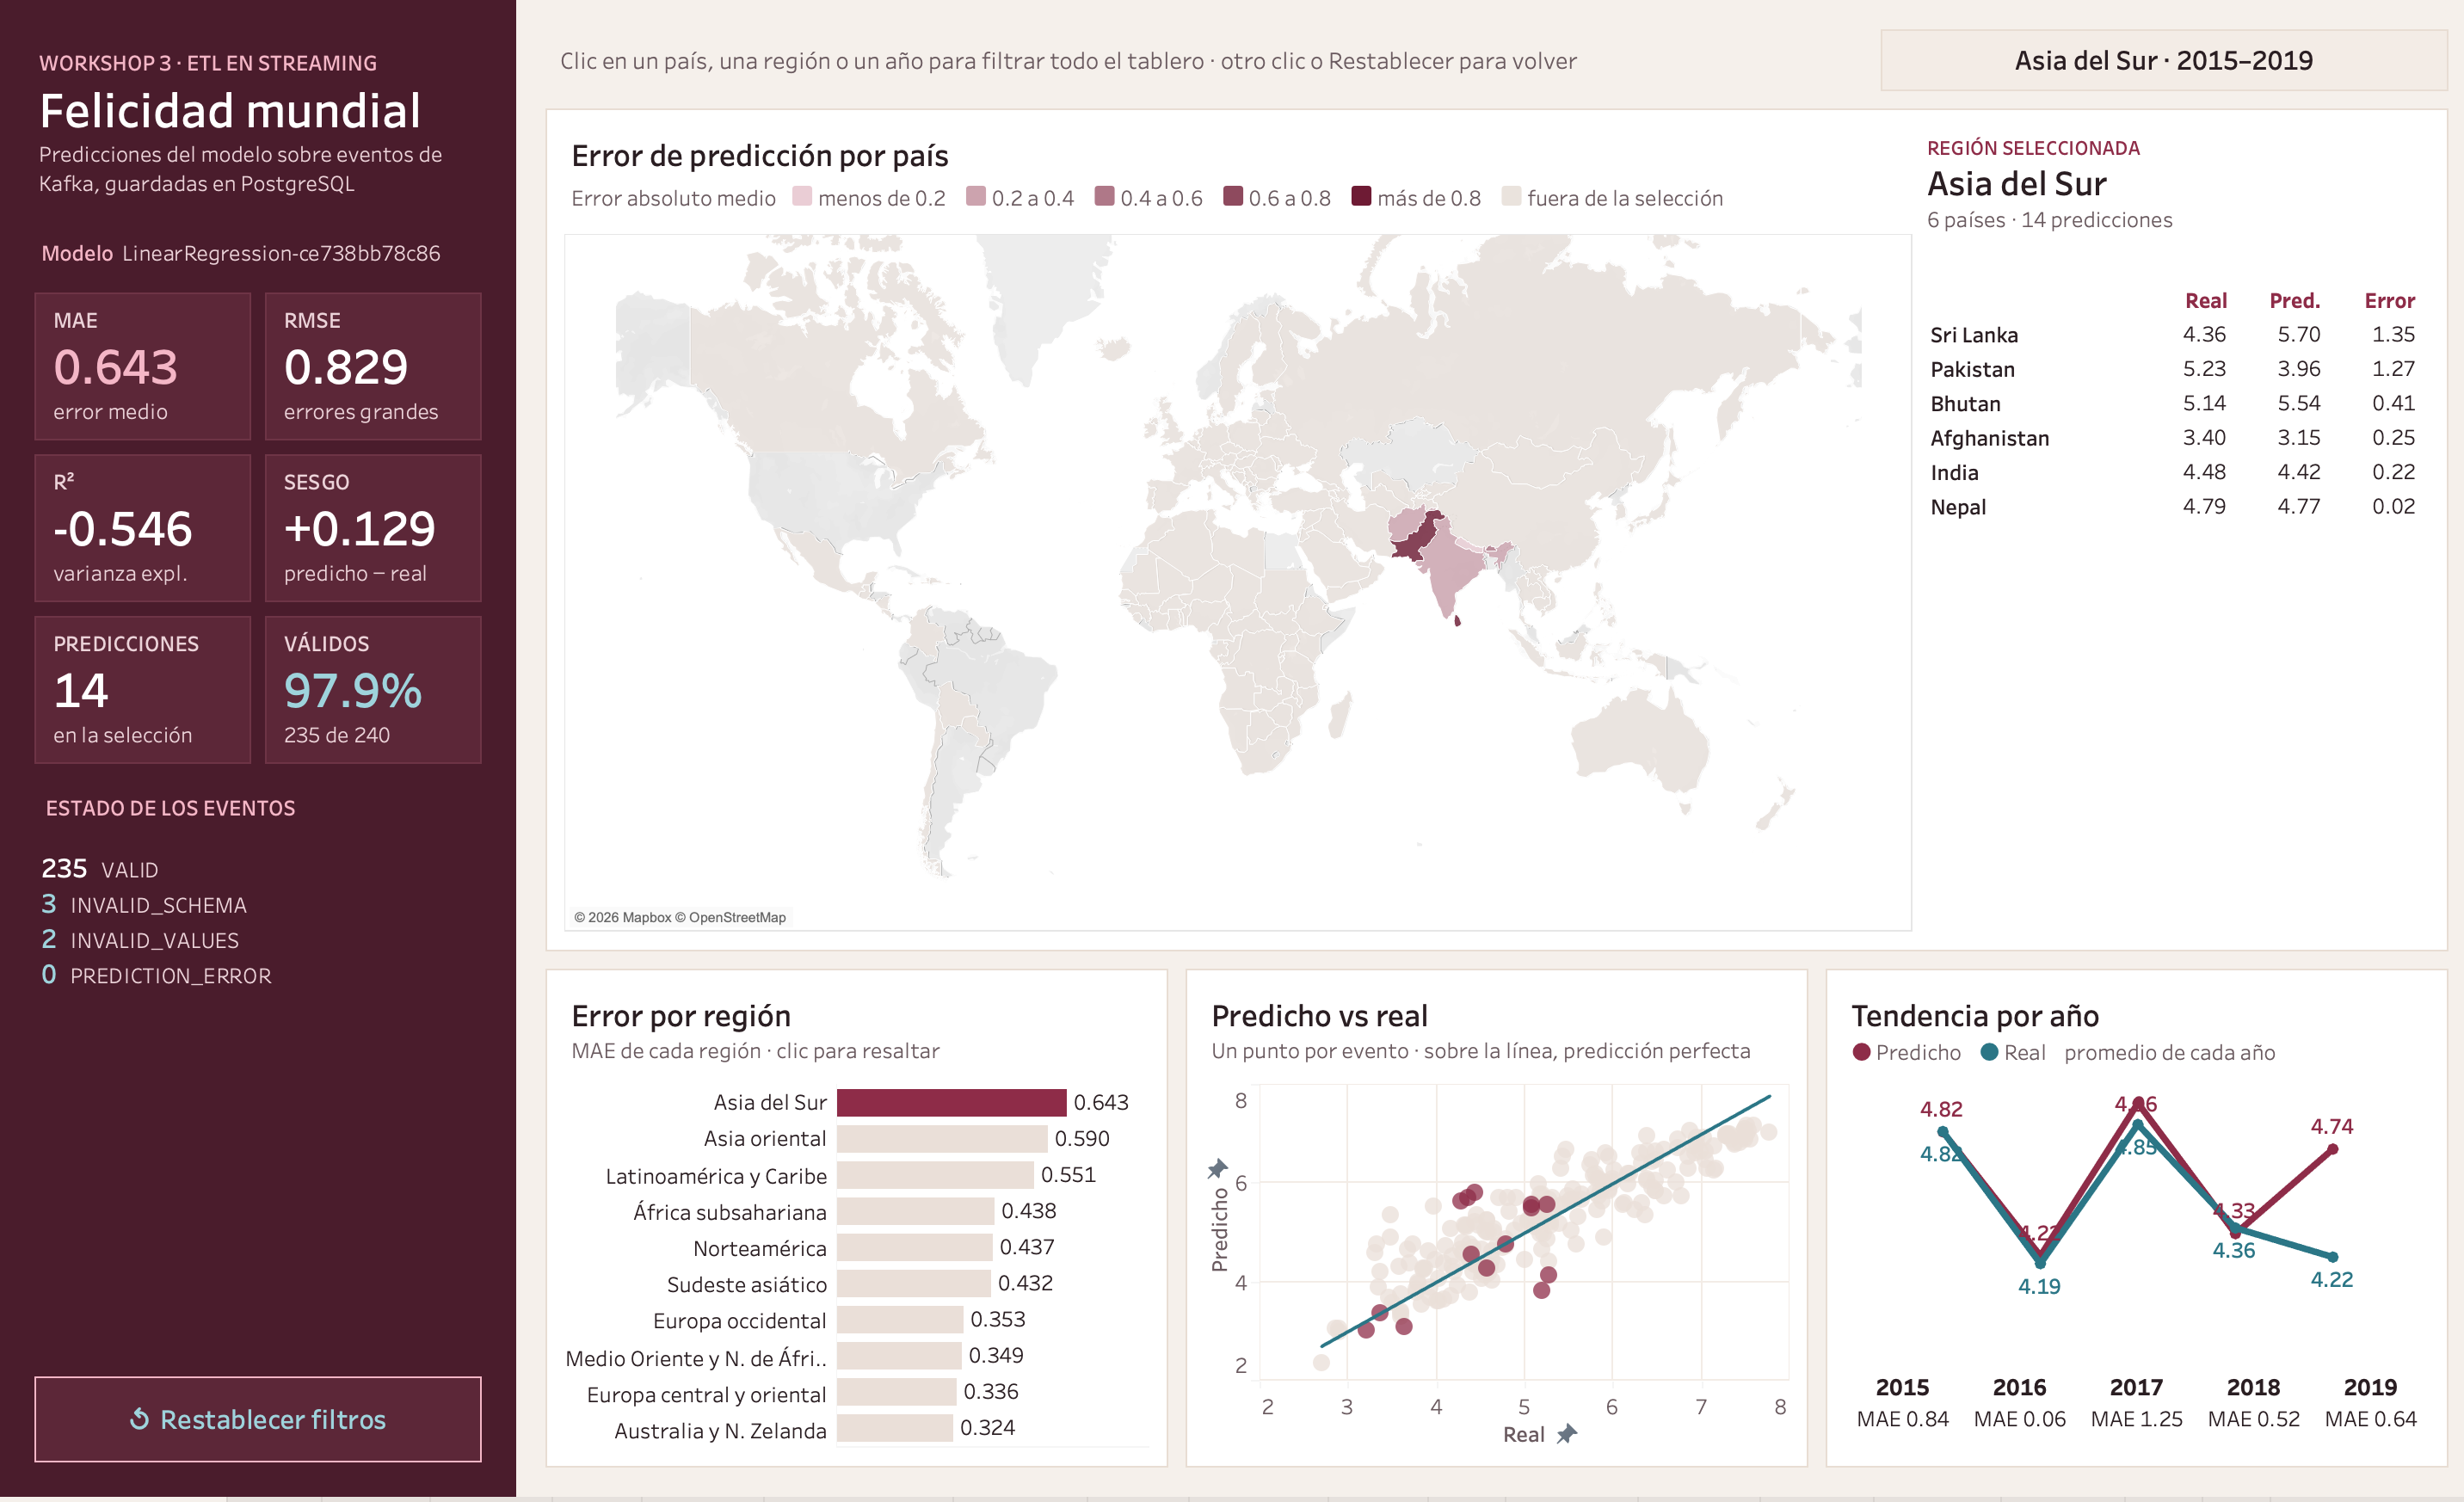

Layout of this report page (visuals, bound fields, positions):
{"tool":"tableau","page":{"name":"Felicidad mundial","canvas":[1000,1000],"units":"permille","ordinal":0},"visuals":[{"type":"text","box":[216.7,13.8,538.9,52.9]},{"type":"worksheet","title":"Alcance","mark":"Text","box":[755.6,13.8,236.1,52.9]},{"type":"text","box":[11.1,18.4,186.1,128.7]},{"type":"worksheet","title":"Mapa","mark":"Multipolygon","box":[227.8,85,544.5,537.9]},{"type":"worksheet","title":"Ficha titulo","mark":"Text","box":[775,89.7,202.8,98.9]},{"type":"worksheet","title":"Modelo","mark":"Text","box":[11.1,147.1,186.1,43.7]},{"type":"worksheet","title":"Ficha lista","mark":"Text","rows":["Calculation_5300000000000023"],"box":[775,188.5,202.8,429.9]},{"type":"worksheet","title":"KPI MAE","mark":"Text","box":[11.1,190.8,93.1,108]},{"type":"worksheet","title":"KPI RMSE","mark":"Text","box":[104.2,190.8,93,108]},{"type":"worksheet","title":"KPI R2","mark":"Text","box":[11.1,298.9,93.1,108]},{"type":"worksheet","title":"KPI Sesgo","mark":"Text","box":[104.2,298.9,93,108]},{"type":"worksheet","title":"KPI Predicciones","mark":"Text","box":[11.1,406.9,93.1,108]},{"type":"worksheet","title":"KPI Validos","mark":"Text","box":[104.2,406.9,93,108]},{"type":"text","box":[11.1,515,186.1,48.3]},{"type":"worksheet","title":"Estados","mark":"Text","box":[11.1,563.2,186.1,119.5]},{"type":"worksheet","title":"Regiones","mark":"Bar","rows":["Calculation_5300000000000001"],"cols":["Calculation_5300000000000035"],"box":[216.7,641.4,258.3,344.8]},{"type":"worksheet","title":"Dispersion","mark":"Automatic","rows":["predicted_score","Calculation_5300000000000046"],"cols":["actual_score"],"box":[475,641.4,258.3,344.8]},{"type":"worksheet","title":"Tendencia","mark":"Automatic","rows":["Calculation_5300000000000062","Calculation_5300000000000061"],"cols":["year"],"box":[744.4,659.8,236.1,255.2]},{"type":"blank","box":[11.1,682.8,186.1,232.2]},{"type":"worksheet","title":"Restablecer","mark":"Text","box":[11.1,914.9,186.1,66.7]},{"type":"worksheet","title":"Anios","mark":"Text","cols":["Calculation_5300000000000003"],"box":[744.4,915,236.1,52.9]}]}

Visuals, with their boxes on the dashboard's canvas, which has no fixed pixel size, in thousandths of its width and height (x1, y1, x2, y2). These are canvas units, not pixel positions in the 2464x1502 screenshot, which may show the page scaled, cropped or inside an application window:
text: <bbox>217, 14, 756, 67</bbox>
"Alcance" worksheet (Text marks): <bbox>756, 14, 992, 67</bbox>
text: <bbox>11, 18, 197, 147</bbox>
"Mapa" worksheet (Multipolygon marks): <bbox>228, 85, 772, 623</bbox>
"Ficha titulo" worksheet (Text marks): <bbox>775, 90, 978, 189</bbox>
"Modelo" worksheet (Text marks): <bbox>11, 147, 197, 191</bbox>
"Ficha lista" worksheet (Text marks): <bbox>775, 188, 978, 618</bbox>
"KPI MAE" worksheet (Text marks): <bbox>11, 191, 104, 299</bbox>
"KPI RMSE" worksheet (Text marks): <bbox>104, 191, 197, 299</bbox>
"KPI R2" worksheet (Text marks): <bbox>11, 299, 104, 407</bbox>
"KPI Sesgo" worksheet (Text marks): <bbox>104, 299, 197, 407</bbox>
"KPI Predicciones" worksheet (Text marks): <bbox>11, 407, 104, 515</bbox>
"KPI Validos" worksheet (Text marks): <bbox>104, 407, 197, 515</bbox>
text: <bbox>11, 515, 197, 563</bbox>
"Estados" worksheet (Text marks): <bbox>11, 563, 197, 683</bbox>
"Regiones" worksheet (Bar marks): <bbox>217, 641, 475, 986</bbox>
"Dispersion" worksheet: <bbox>475, 641, 733, 986</bbox>
"Tendencia" worksheet: <bbox>744, 660, 980, 915</bbox>
blank: <bbox>11, 683, 197, 915</bbox>
"Restablecer" worksheet (Text marks): <bbox>11, 915, 197, 982</bbox>
"Anios" worksheet (Text marks): <bbox>744, 915, 980, 968</bbox>
